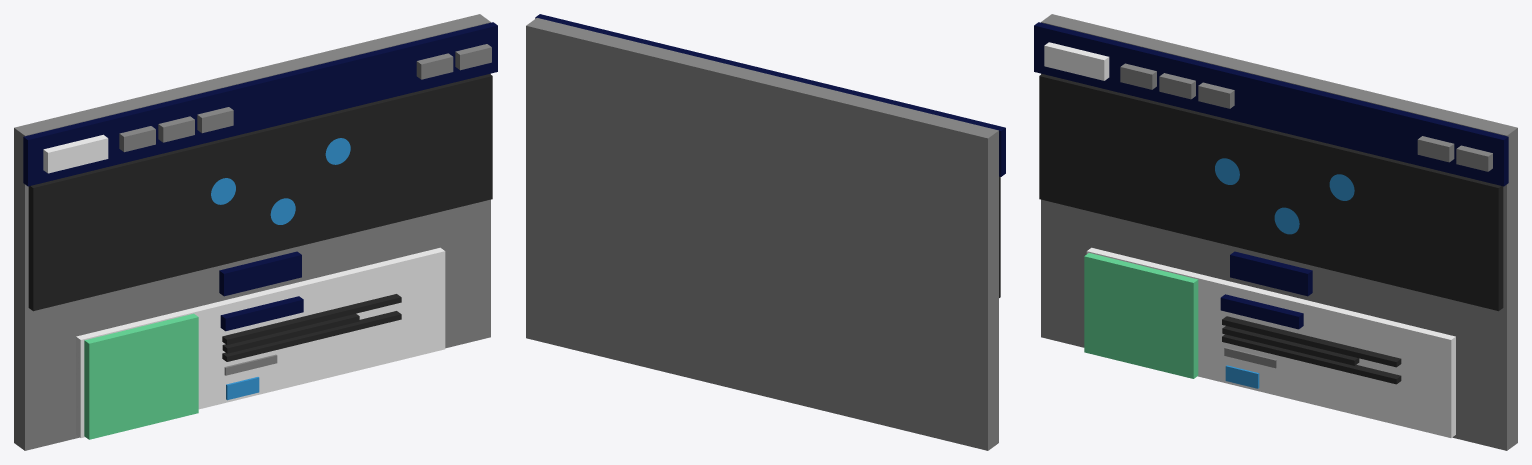
3 views of the same model, side by side, from view 1: azimuth 30°, elevation 25°; view 2: azimuth 150°, elevation 25°; view 3: azimuth 330°, elevation 25° (orthographic).
Parts seen in each view (by area): view 1: Cube.001; view 2: Cube.001; view 3: Cube.001.
Part boxes in pixels (bbox=[...]): Cube.001: bbox=[14, 14, 497, 450]; Cube.001: bbox=[526, 14, 1005, 450]; Cube.001: bbox=[1034, 14, 1517, 450].
Size of the model in its own units: 21.23 by 13.61 by 1.68.
